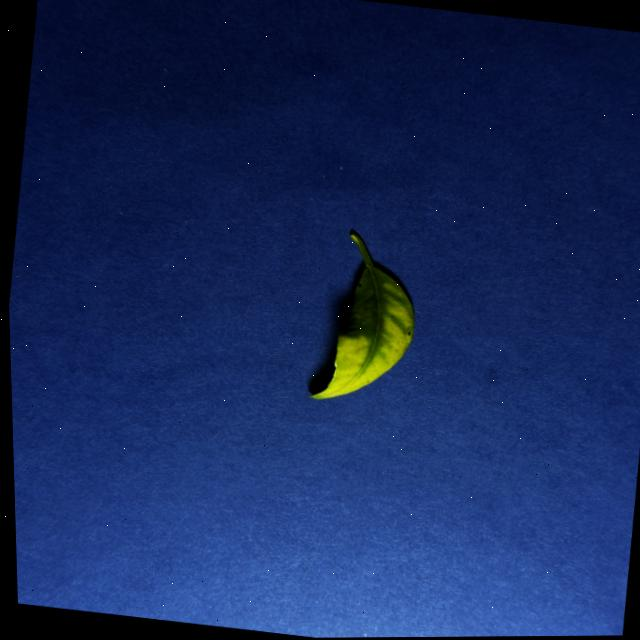greening: (312, 233, 414, 399)
